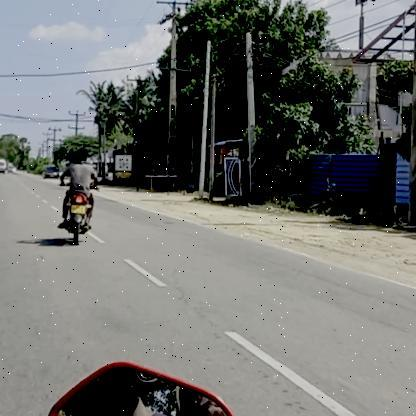motorcycle: (61, 187, 97, 254)
